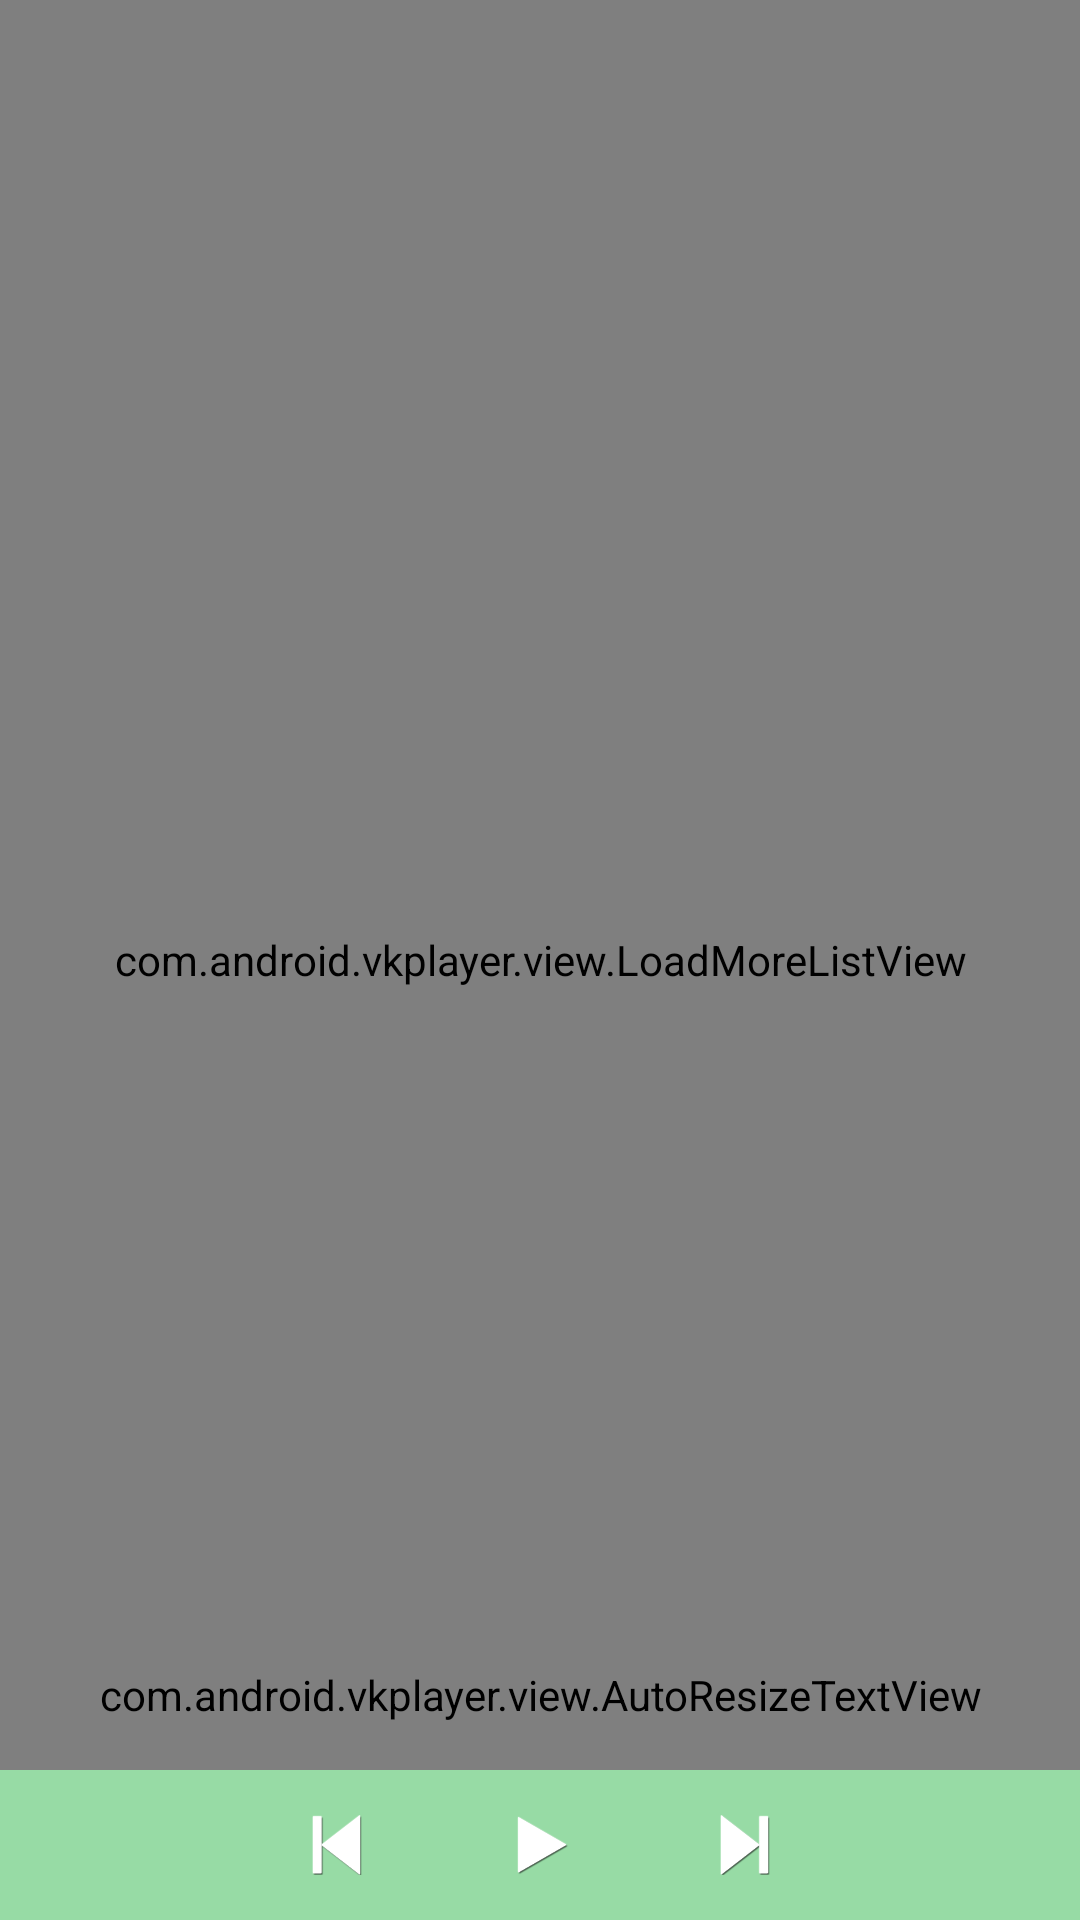

Named icons in this screenshot (1080px×1920px) and their centers, (x=x, y=y):
next: (x=745, y=1845)
previous: (x=337, y=1845)
